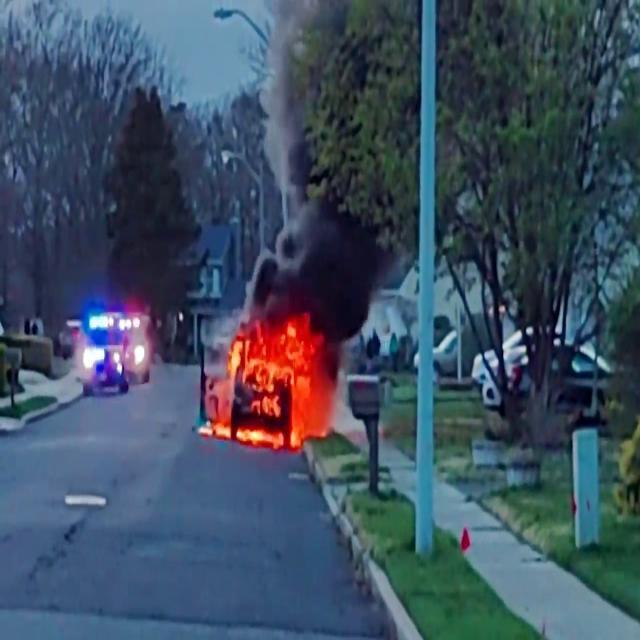Fire: (213, 316, 331, 448)
Smoke: (249, 24, 396, 338)
